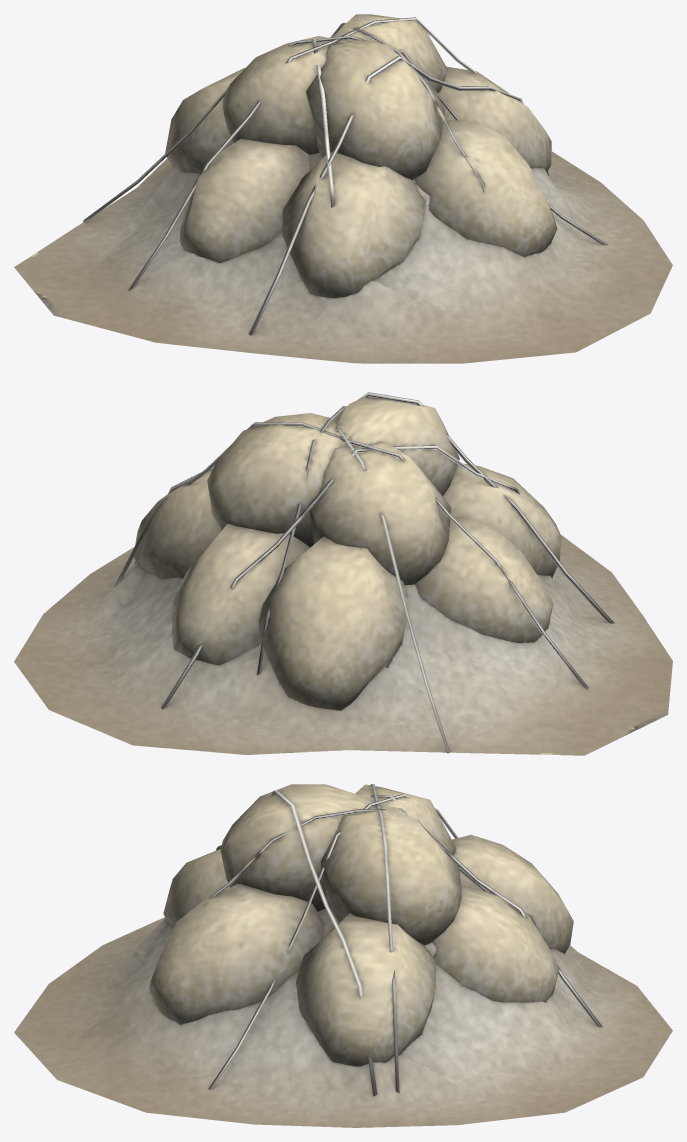
The model's file is SpiderEgg_Clutch.fbx.
3 views of the same model, one above another, from view 1: azimuth 30°, elevation 25°; view 2: azimuth 150°, elevation 25°; view 3: azimuth 270°, elevation 25° (orthographic). The views are drawn at different scales.
Visible parts, largest first — view 1: SpiderEgg_Clutch; view 2: SpiderEgg_Clutch; view 3: SpiderEgg_Clutch.
Part boxes in pixels (x1,y1,x2,y2): SpiderEgg_Clutch: (14, 14, 672, 363); SpiderEgg_Clutch: (14, 392, 672, 755); SpiderEgg_Clutch: (14, 784, 672, 1127).
Size of the model in its own units: 1.32 by 0.4747 by 1.35.
